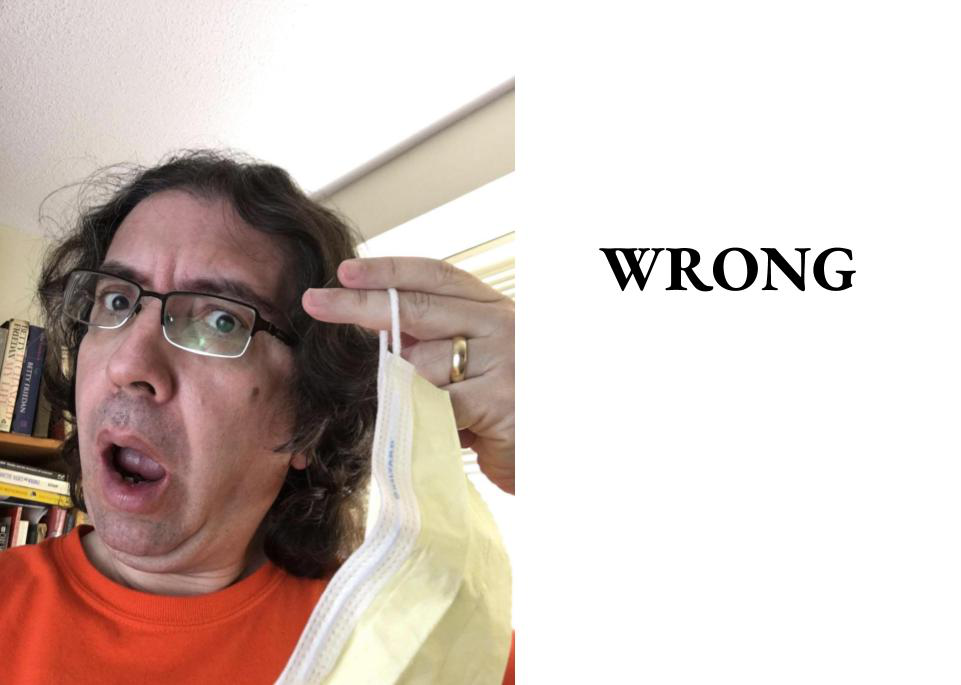without_mask: (74, 226, 301, 571)
